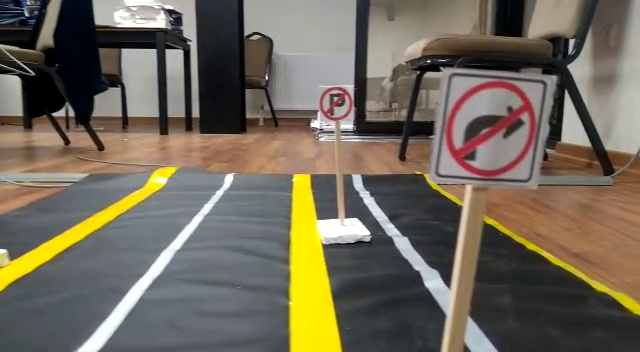park_yapilmaz: (319, 87, 354, 119)
saga_donulmez: (441, 71, 537, 183)
